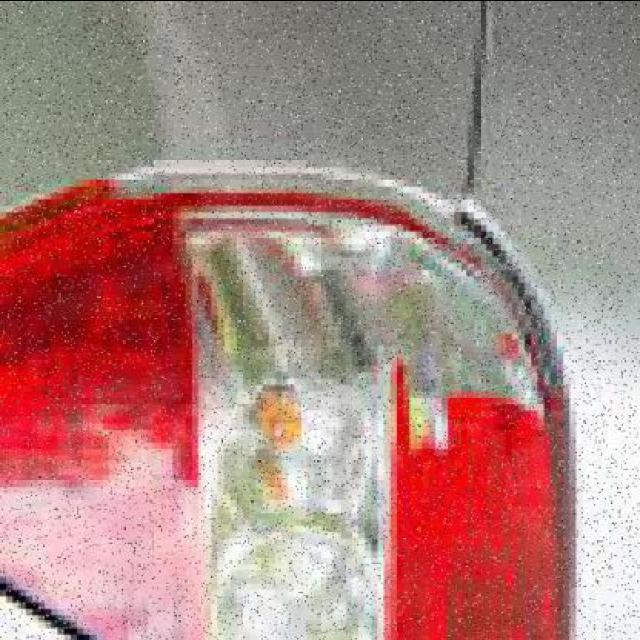Taillight-Damage: (0, 19, 634, 640)
